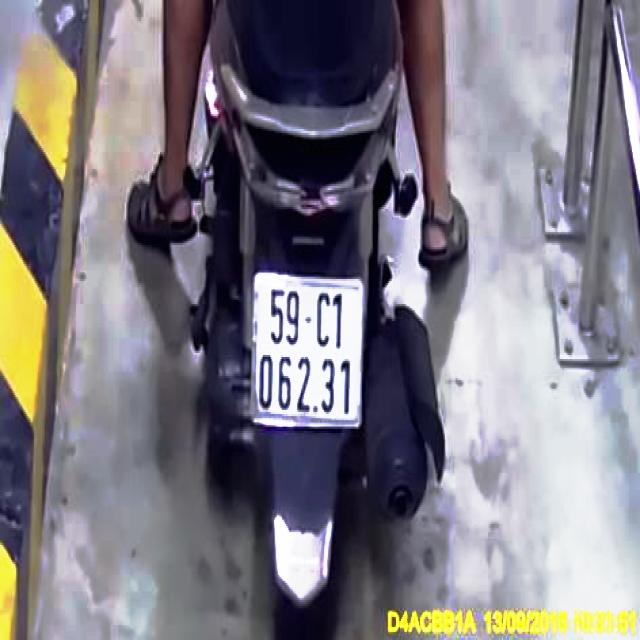license_plate: (250, 273, 366, 425)
